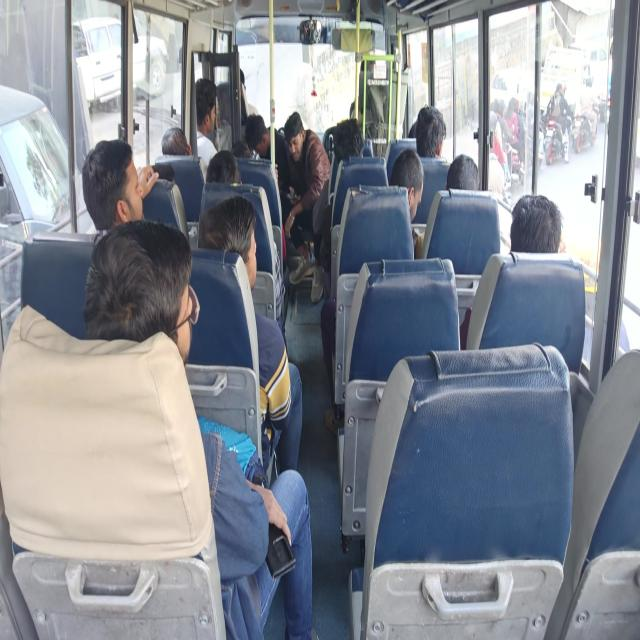person: (83, 217, 316, 639), (320, 148, 424, 434), (198, 194, 303, 474), (509, 194, 629, 354), (460, 193, 566, 349), (244, 113, 313, 284), (311, 118, 364, 302), (282, 110, 331, 300), (81, 138, 159, 238), (244, 113, 290, 192), (509, 194, 565, 254), (390, 148, 424, 222), (195, 76, 218, 170), (415, 104, 446, 158), (333, 118, 364, 163), (206, 150, 242, 186), (445, 154, 480, 190), (161, 126, 191, 156), (488, 151, 505, 197)
